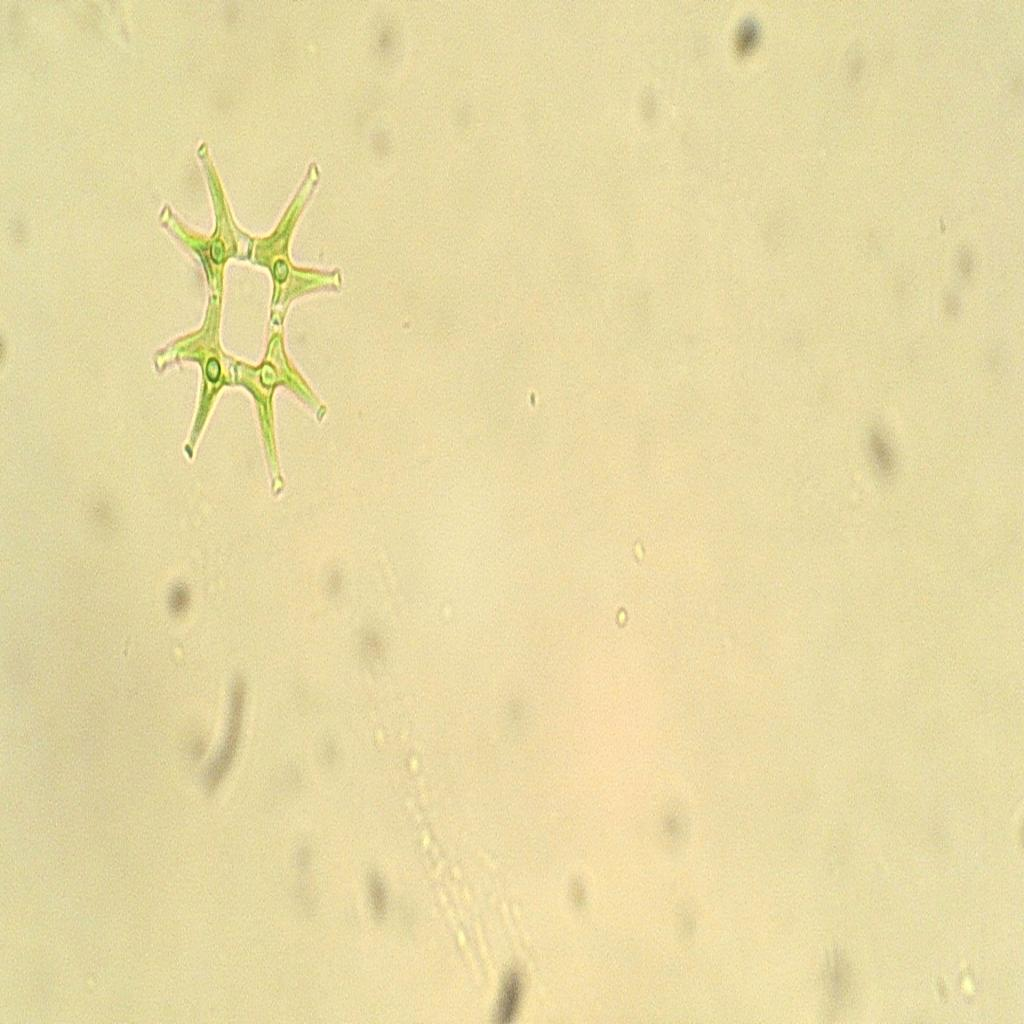Pediastrum_10: (132, 121, 355, 505)
